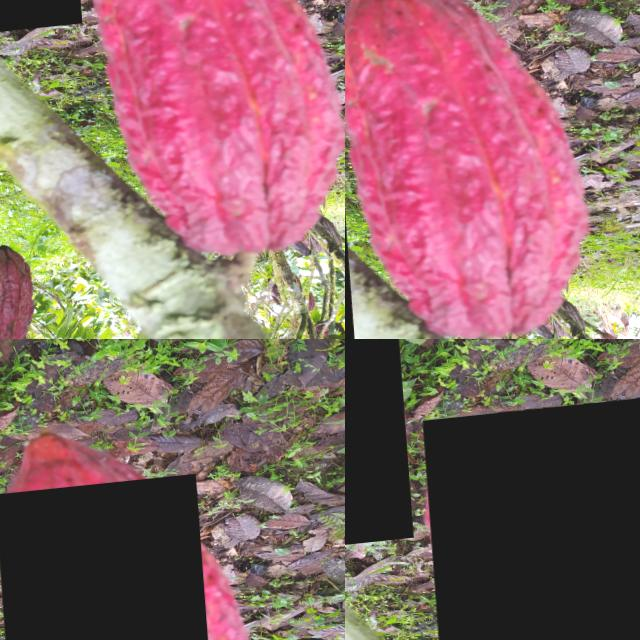Monilia: (0, 484, 208, 640)
Sana: (420, 406, 640, 640), (345, 339, 409, 558)
